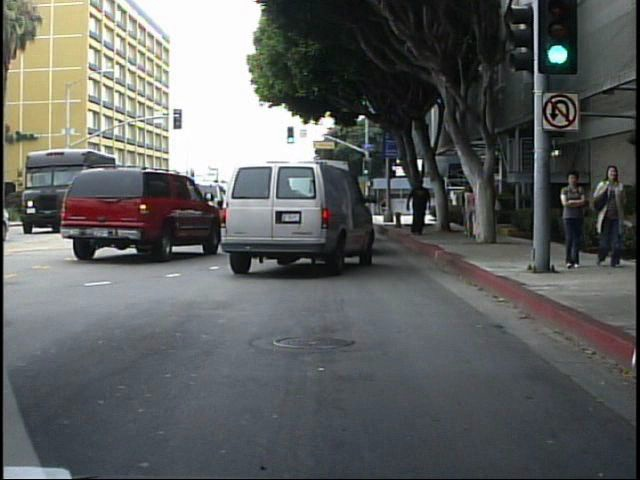person: (591, 160, 627, 271), (557, 169, 590, 274), (405, 179, 434, 238), (483, 172, 504, 241), (461, 177, 480, 247), (414, 186, 428, 220)
